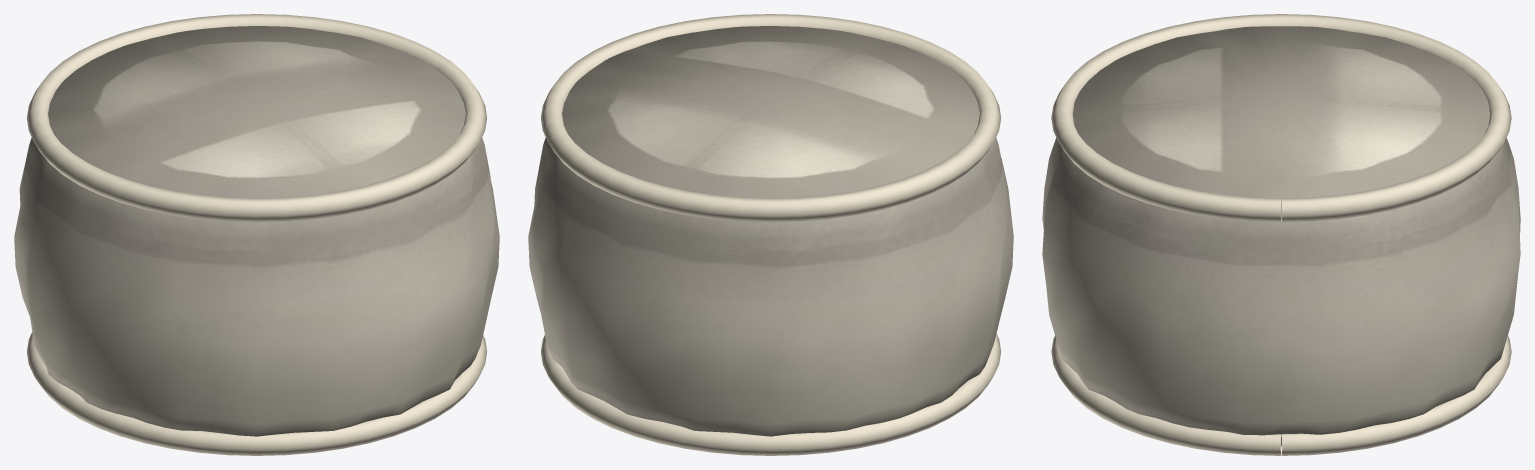
File: pouf_ivory.glb
3 views of the same model, side by side, from view 1: azimuth 30°, elevation 25°; view 2: azimuth 150°, elevation 25°; view 3: azimuth 270°, elevation 25° (orthographic).
Parts seen in each view (by area): view 1: pouf_ivory_felt_ivory, pouf_ivory_yarn_ivory; view 2: pouf_ivory_felt_ivory, pouf_ivory_yarn_ivory; view 3: pouf_ivory_felt_ivory, pouf_ivory_yarn_ivory.
Part boxes in pixels (x1=…): pouf_ivory_felt_ivory: x1=14, y1=26, x2=499, y2=436; pouf_ivory_yarn_ivory: x1=27, y1=14, x2=486, y2=455; pouf_ivory_felt_ivory: x1=528, y1=26, x2=1013, y2=436; pouf_ivory_yarn_ivory: x1=541, y1=14, x2=1000, y2=455; pouf_ivory_felt_ivory: x1=1042, y1=26, x2=1520, y2=445; pouf_ivory_yarn_ivory: x1=1051, y1=14, x2=1511, y2=455.
Size of the model in its own units: 1.28 by 0.7877 by 1.28.
2 materials, 1 textured.
